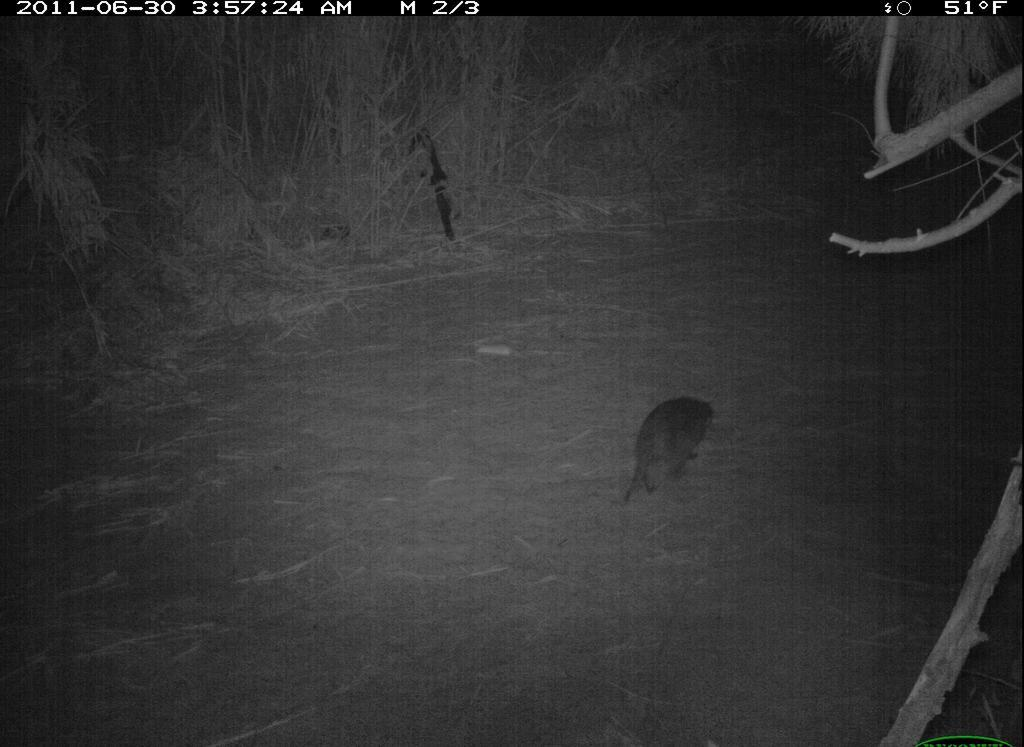raccoon: (616, 392, 721, 514)
